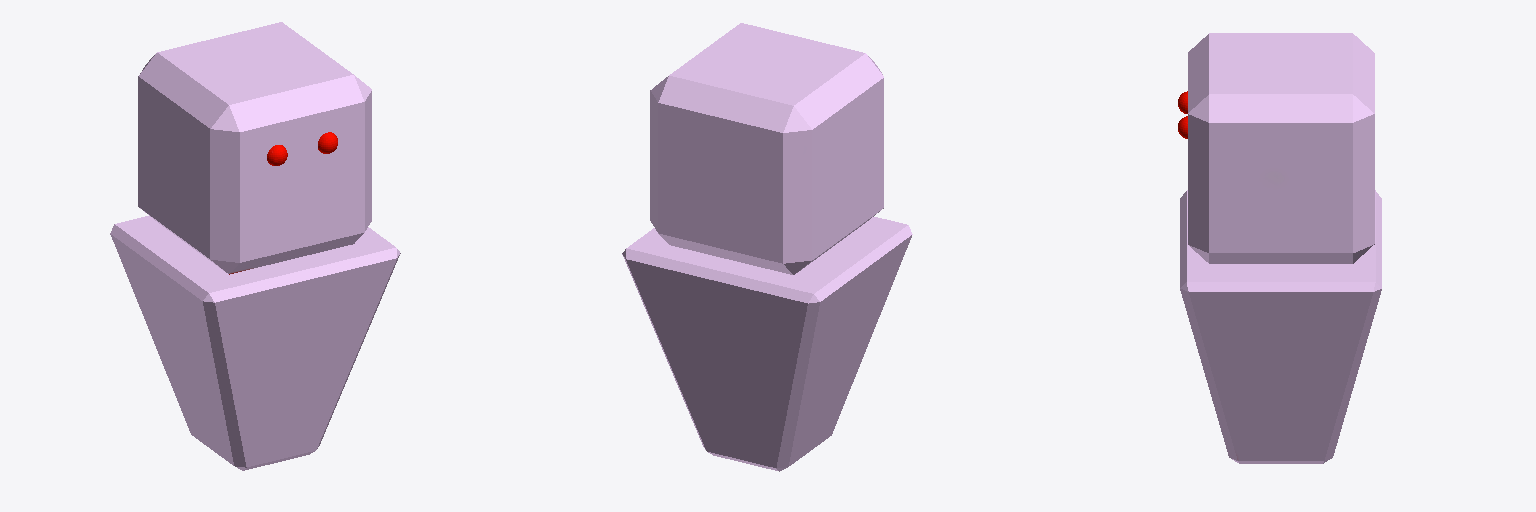
The picture shows the model from 3 angles: view 1: azimuth 30°, elevation 25°; view 2: azimuth 150°, elevation 25°; view 3: azimuth 270°, elevation 25°; orthographic projection.
Visible parts, largest first — view 1: Body; view 2: Body; view 3: Body.
Boxes of the visible parts, <box> form: Body: <box>110,22,400,470</box>; Body: <box>622,23,912,471</box>; Body: <box>1178,33,1381,463</box>.
Size of the model in its own units: 1.96 by 3.63 by 1.75.
1 materials, 1 textured.